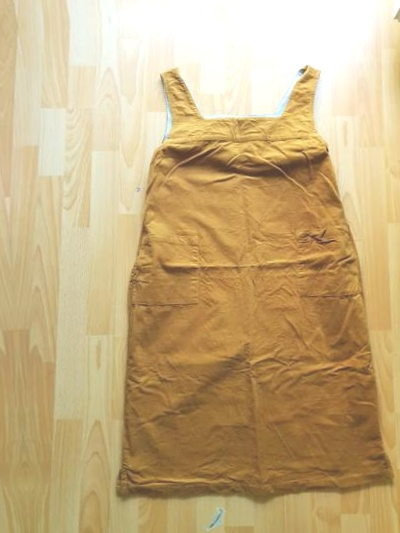Dress: (100, 46, 400, 526)
